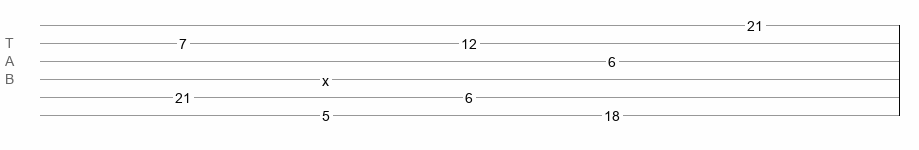12: (461, 36, 477, 46)
18: (604, 108, 620, 118)
21: (175, 90, 191, 100), (747, 18, 763, 28)
5: (322, 108, 330, 118)
6: (465, 90, 473, 100), (608, 54, 616, 64)
7: (179, 36, 187, 46)
x: (322, 73, 329, 81)
